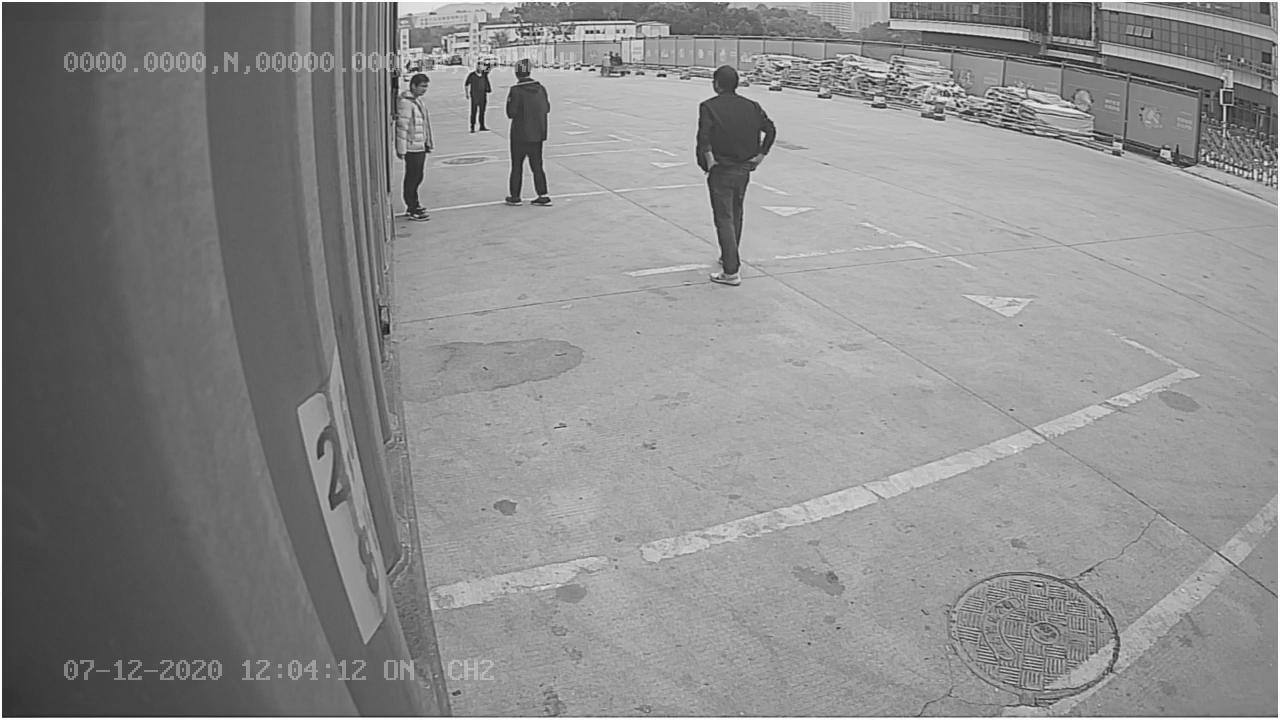person: (688, 56, 778, 292)
